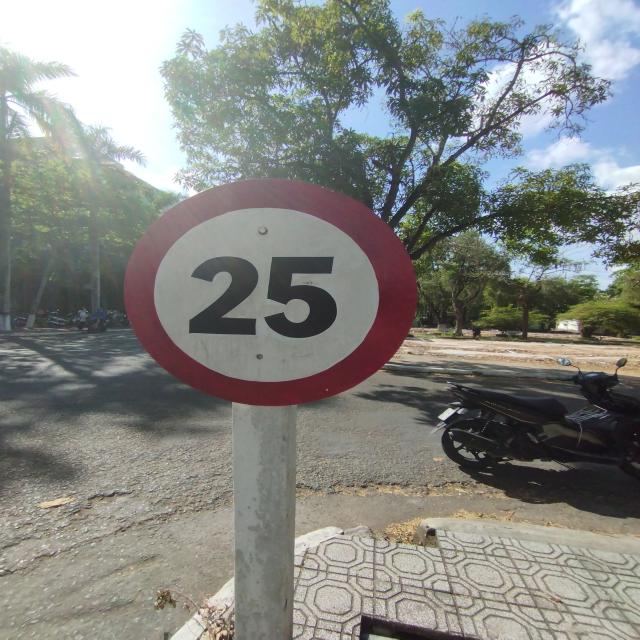Tre_Em: (122, 176, 422, 406)
